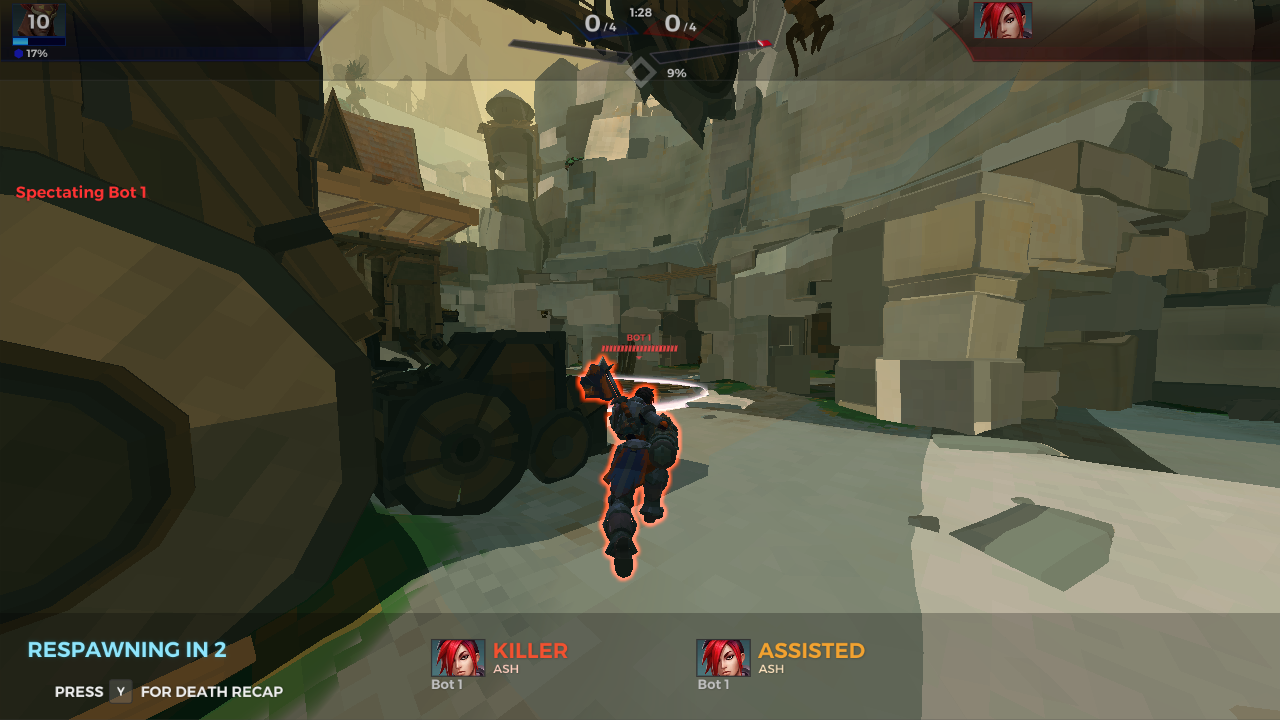model: (570, 347, 682, 576)
